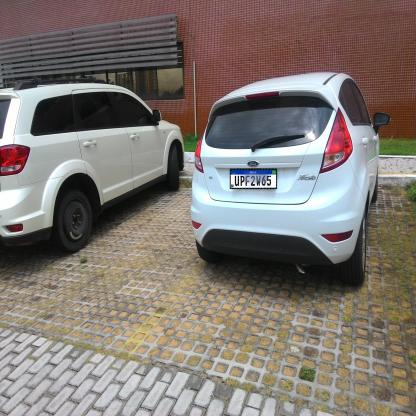PlacaM: (230, 169, 277, 189)
